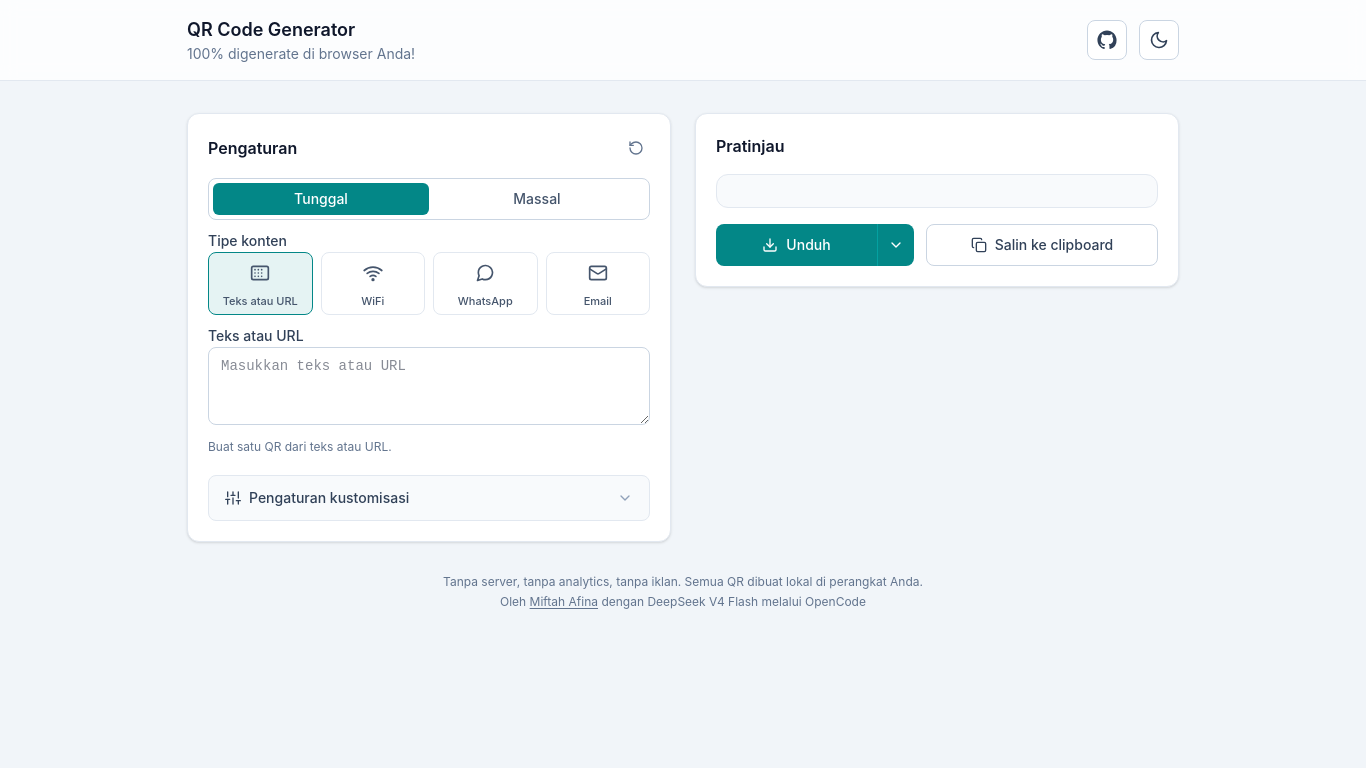
Test: App › menampilkan opsi PNG dan SVG lewat menu unduh
This screenshot has width=1366, height=768.
Expected: the menu item "SVG" is not shown
Click the button named "Opsi format unduhan".
click(896, 245)  # box x1=877 y1=224 x2=914 y2=266
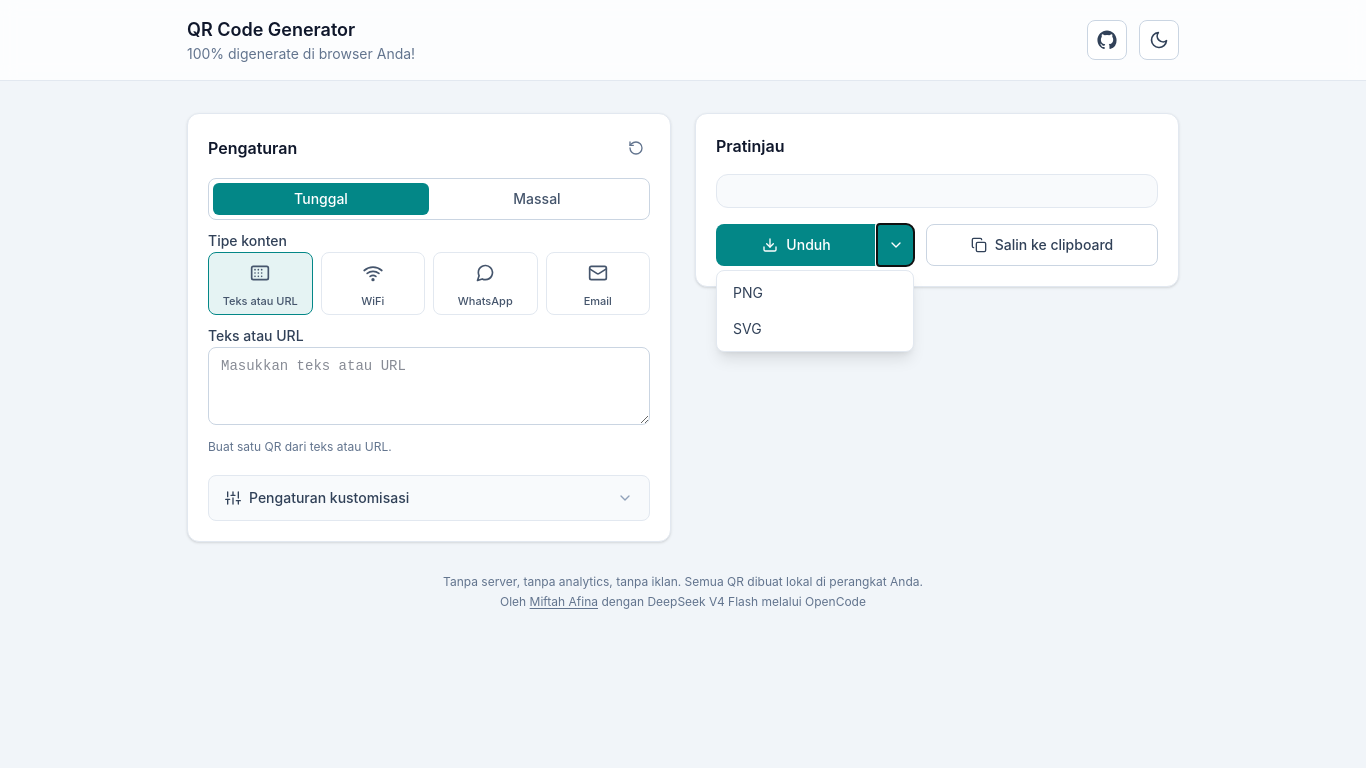
Now the menu item "PNG" is shown, box x1=717 y1=275 x2=913 y2=311
Now the menu item "SVG" is shown, box x1=717 y1=311 x2=913 y2=347
